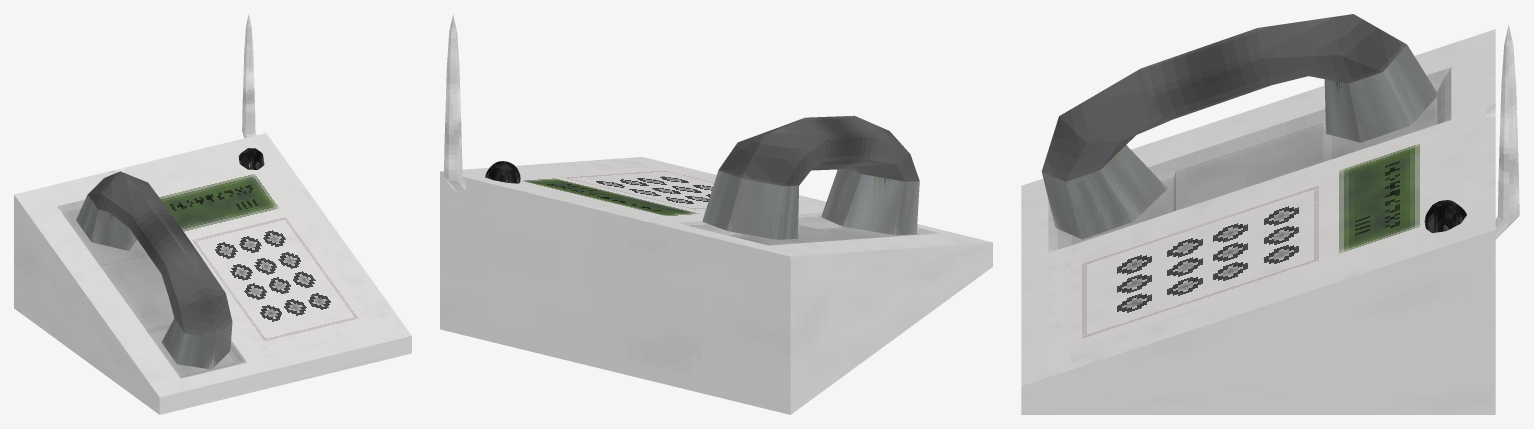
File: Teléfono.glb
The picture shows the model from 3 angles, left to right: view 1: azimuth 30°, elevation 25°; view 2: azimuth 150°, elevation 25°; view 3: azimuth 270°, elevation 25°; orthographic projection. The views are drawn at different scales.
Visible parts, largest first — view 1: telefono, altavoz; view 2: telefono, altavoz; view 3: telefono, altavoz.
Boxes of the visible parts, box(x1,y1,x2,y2) form: telefono: box(14, 14, 411, 414); altavoz: box(76, 171, 232, 369); telefono: box(440, 14, 992, 414); altavoz: box(702, 115, 919, 239); telefono: box(1021, 25, 1519, 414); altavoz: box(1041, 14, 1438, 239).
Size of the model in its own units: 2 by 1.77 by 2.1.
Materials: 1 (1 with a texture image).
